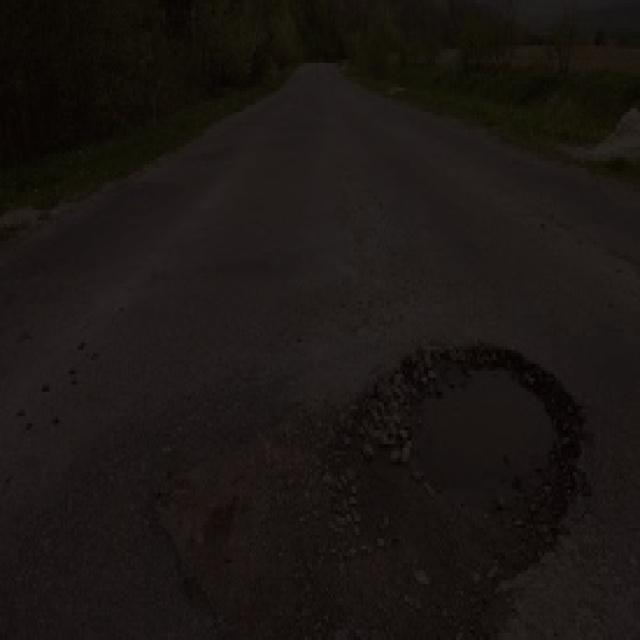Pothole: (336, 334, 590, 586)
